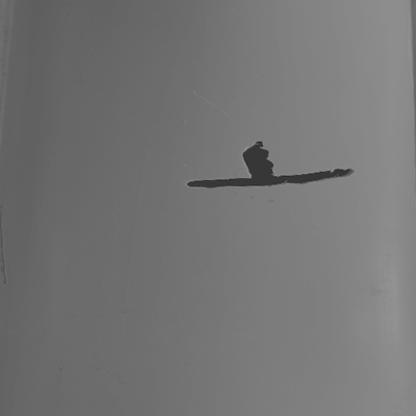fengxi: (185, 168, 357, 189)
kongdong: (239, 141, 279, 179)
